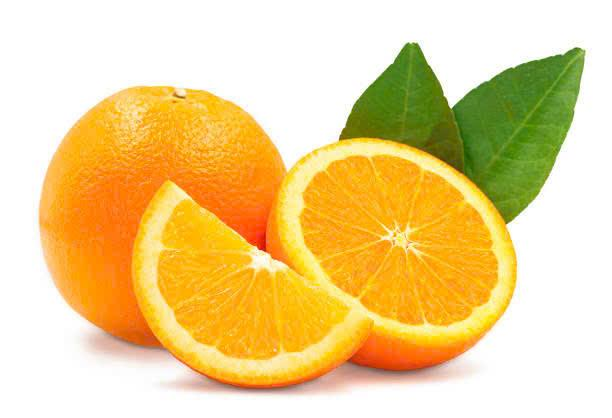orange: (266, 124, 528, 370), (139, 178, 372, 397)
